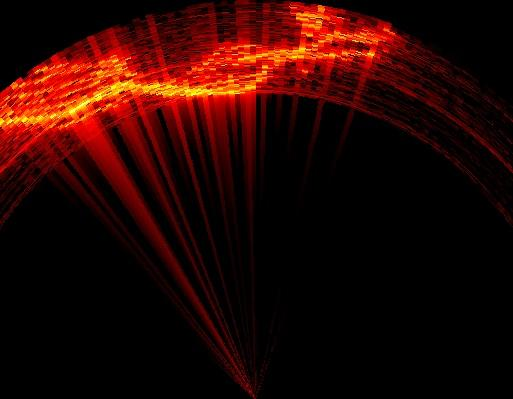shipwreck: (0, 56, 255, 173), (251, 10, 398, 76)
